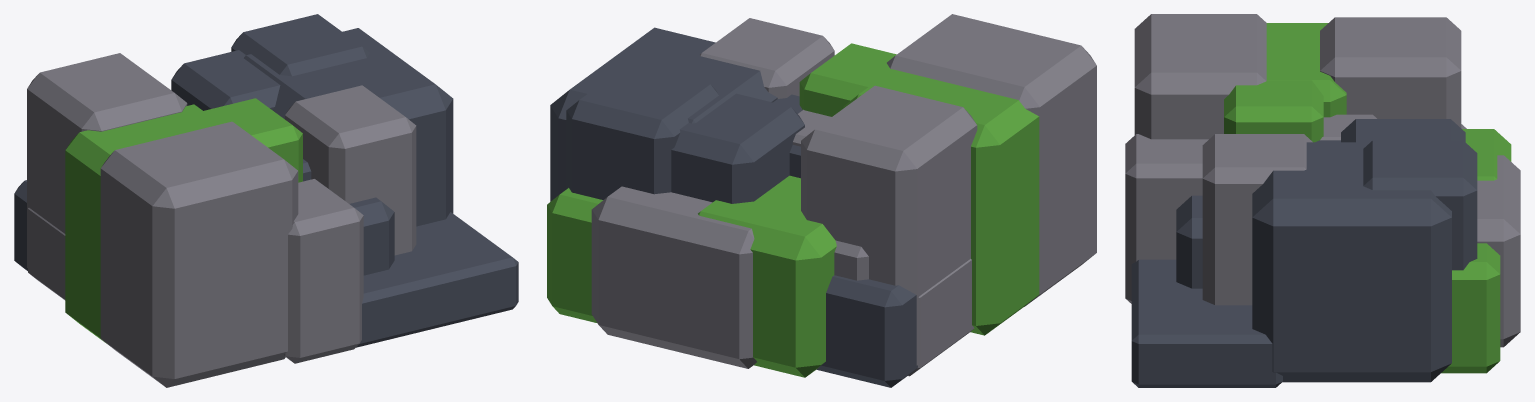
The model's file is flagship_props_036.glb.
3 renders of one model, left to right at view 1: azimuth 30°, elevation 25°; view 2: azimuth 150°, elevation 25°; view 3: azimuth 270°, elevation 25°, orthographic. The views are drawn at different scales.
Visible parts, largest first — view 1: Prop_Island_Boulder_K26V4, Prop_Island_Boulder_K26V2, Prop_Island_Boulder_K6V1; view 2: Prop_Island_Boulder_K26V4, Prop_Island_Boulder_K26V2, Prop_Island_Boulder_K6V1, Prop_OreNode_Coal_Large; view 3: Prop_Island_Boulder_K26V4, Prop_Island_Boulder_K26V2, Prop_Island_Boulder_K6V1, Prop_OreNode_Coal_Large.
Boxes of the visible parts, box(x1,y1,x2,y2) form: Prop_Island_Boulder_K26V4: box(27, 28, 453, 387); Prop_Island_Boulder_K26V2: box(14, 14, 518, 363); Prop_Island_Boulder_K6V1: box(303, 159, 394, 275); Prop_Island_Boulder_K26V4: box(547, 14, 1096, 377); Prop_Island_Boulder_K26V2: box(566, 18, 1039, 387); Prop_Island_Boulder_K6V1: box(834, 240, 868, 280); Prop_OreNode_Coal_Large: box(792, 109, 831, 146); Prop_Island_Boulder_K26V4: box(1134, 14, 1511, 382); Prop_Island_Boulder_K26V2: box(1125, 23, 1520, 387); Prop_Island_Boulder_K6V1: box(1176, 124, 1466, 288); Prop_OreNode_Coal_Large: box(1320, 114, 1376, 140).
Size of the model in its own units: 3.16 by 1.72 by 2.94.
